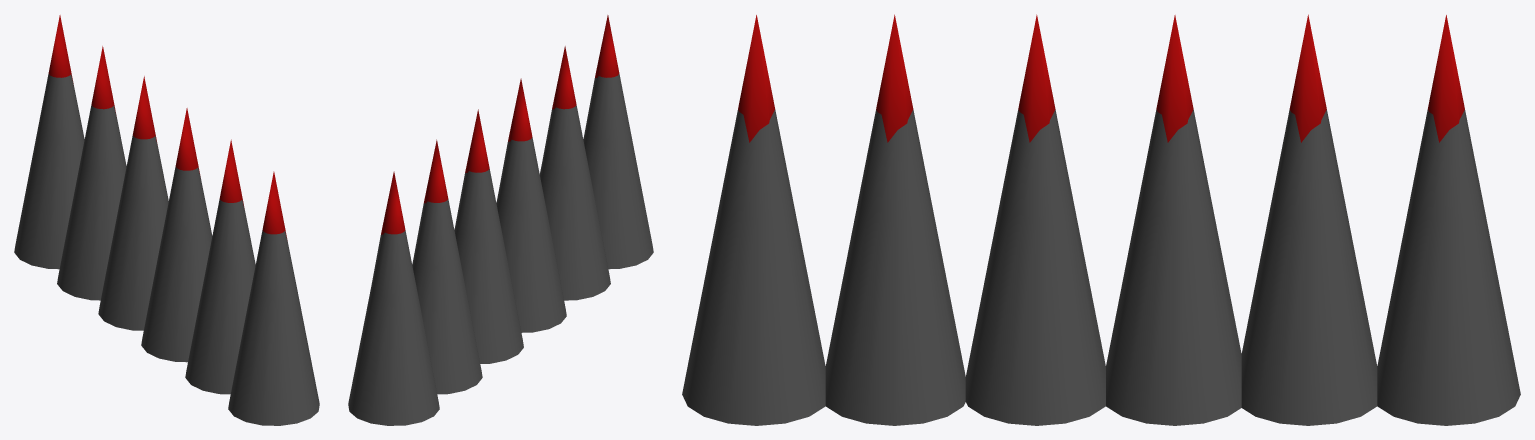
The model's file is Spikes6_01.fbx.
3 renders of one model, left to right at view 1: azimuth 30°, elevation 25°; view 2: azimuth 150°, elevation 25°; view 3: azimuth 270°, elevation 25°, orthographic. The views are drawn at different scales.
Visible parts, largest first — view 1: pCone20; view 2: pCone20; view 3: pCone20.
Part boxes in pixels (bbox=[...]): pCone20: bbox=[14, 15, 319, 425]; pCone20: bbox=[348, 15, 653, 425]; pCone20: bbox=[682, 14, 1520, 425].
Bounding box in the file's own units: 11.15 × 31.39 × 62.73.
